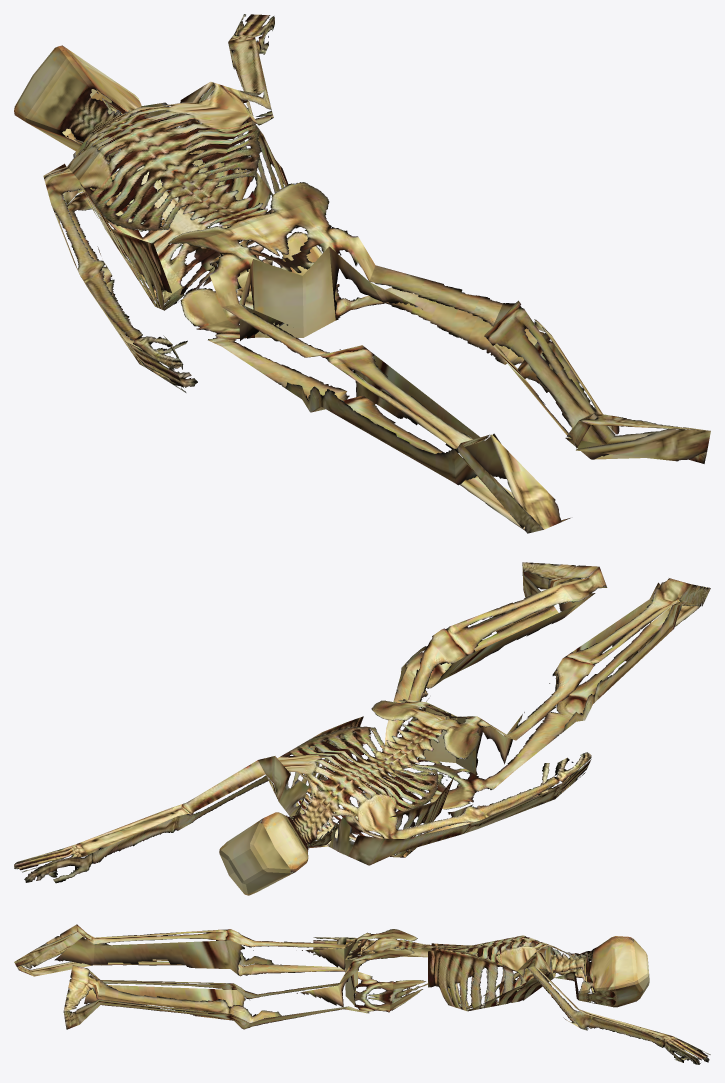
File: SKELETONS_LAYING.fbx
3 renders of one model, top to bottom at view 1: azimuth 30°, elevation 25°; view 2: azimuth 150°, elevation 25°; view 3: azimuth 270°, elevation 25°, orthographic. The views are drawn at different scales.
Visible parts, largest first — view 1: skeleton.002; view 2: skeleton.002; view 3: skeleton.002.
Part boxes in pixels (x1,y1,x2,y2): skeleton.002: [14, 14, 710, 533]; skeleton.002: [14, 562, 710, 895]; skeleton.002: [14, 924, 710, 1064].
Size of the model in its own units: 180 by 59.52 by 433.
Materials: 1 (1 with a texture image).
